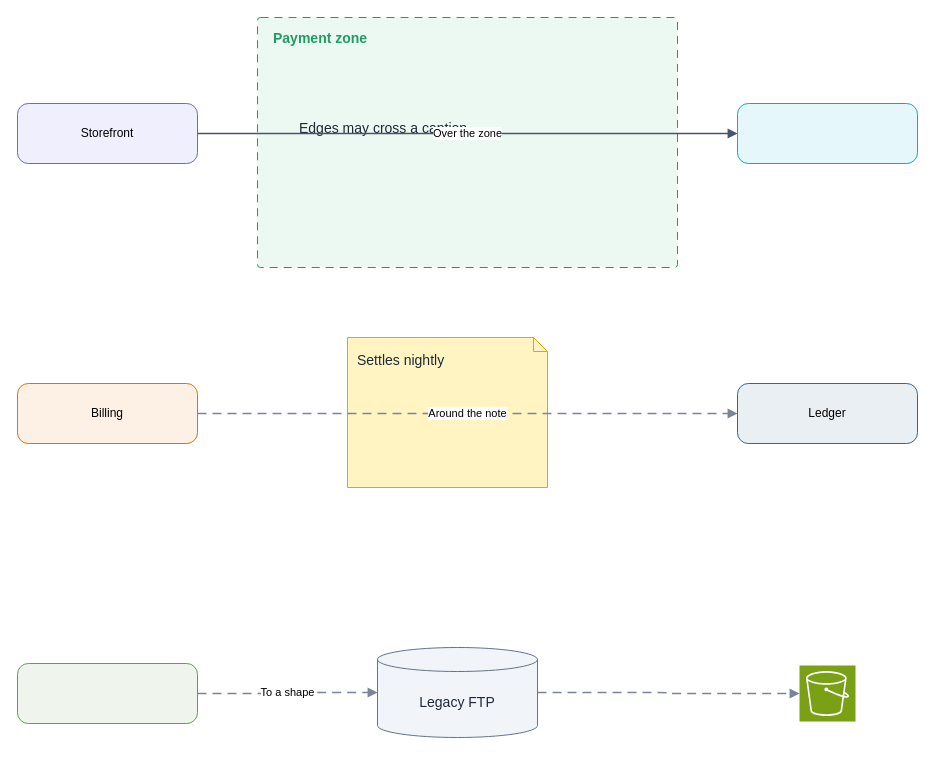
The diagram is 935 pixels wide and 760 high, and some of its shapes have lost their labels. The shapes that lost their labels are listed below. From the top down, each one's centre as x and y in pixels, then its label:
At [827,133]: "Checkout".
At [107,693]: "Exporter".
At [827,693]: "Archive".
